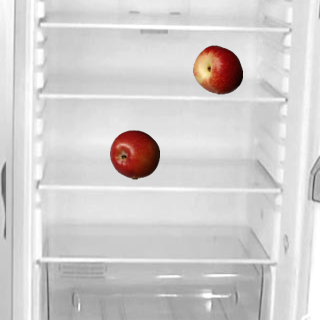Apple Braeburn: (109, 129, 159, 179)
Nectarine: (192, 44, 242, 94)
